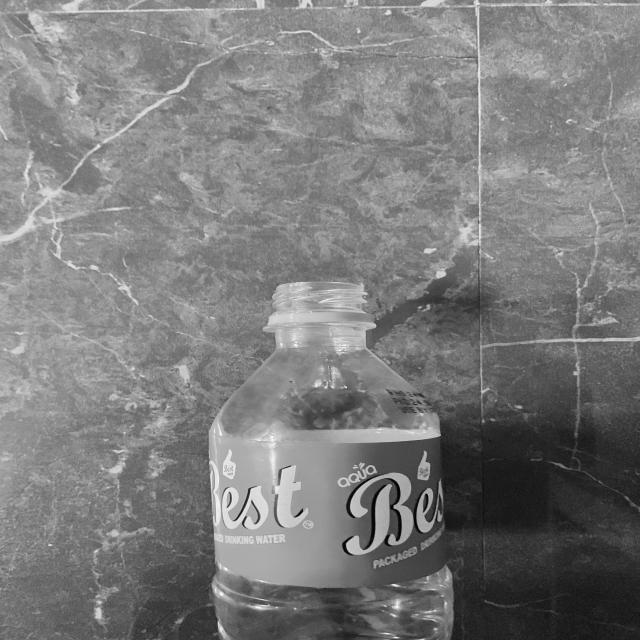open-cap: (266, 281, 374, 323)
